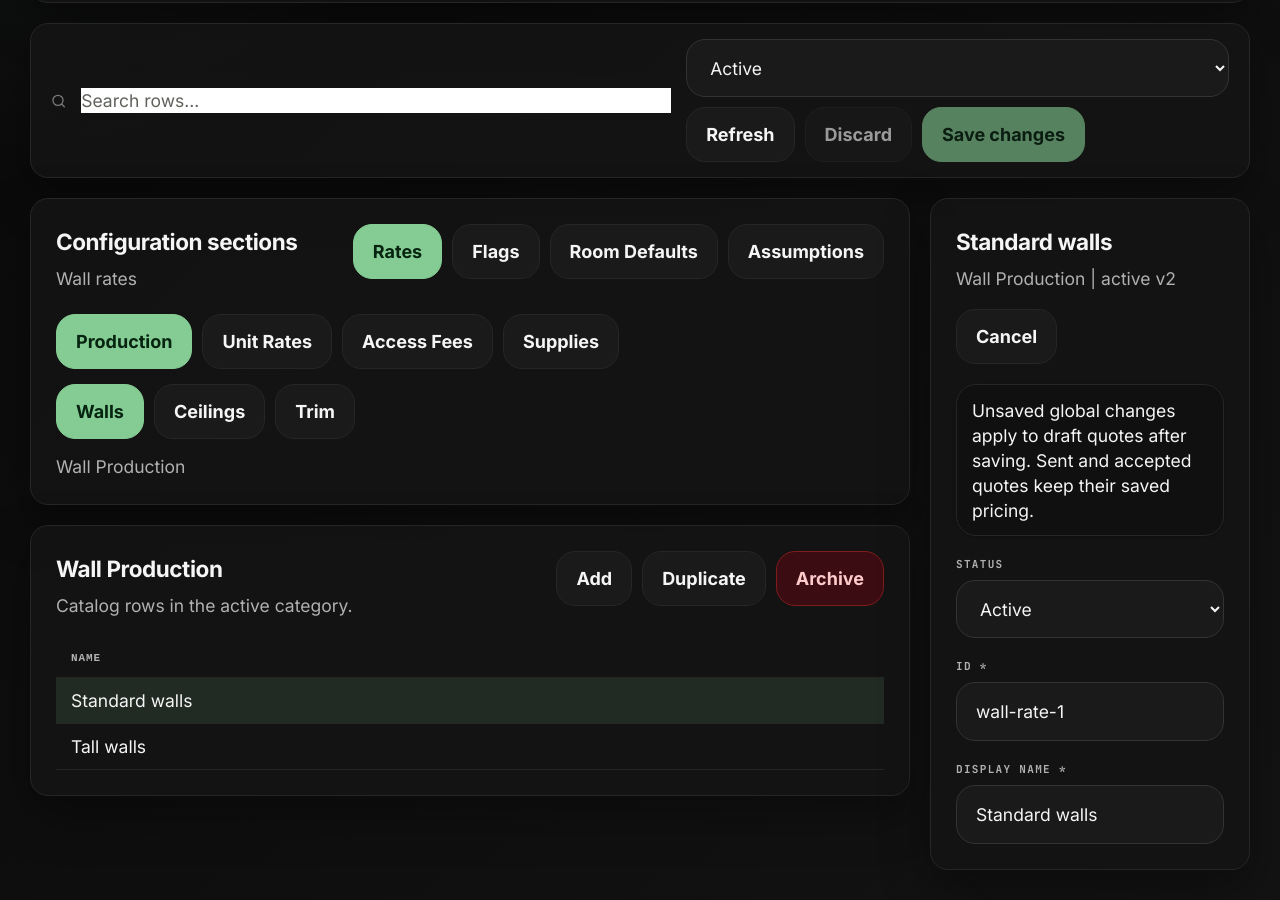
Test case: QuoteRatesPage › shows a discard modal before replacing a dirty draft
(page scrolled)
Expected: the text "Standard walls" is shown 2 times, [56,677,884,723]; [956,224,1112,259]
Replace the text in the field labelled "Display Name *" with "Edited walls". click: (1090, 814)
box: [956,785,1224,844]
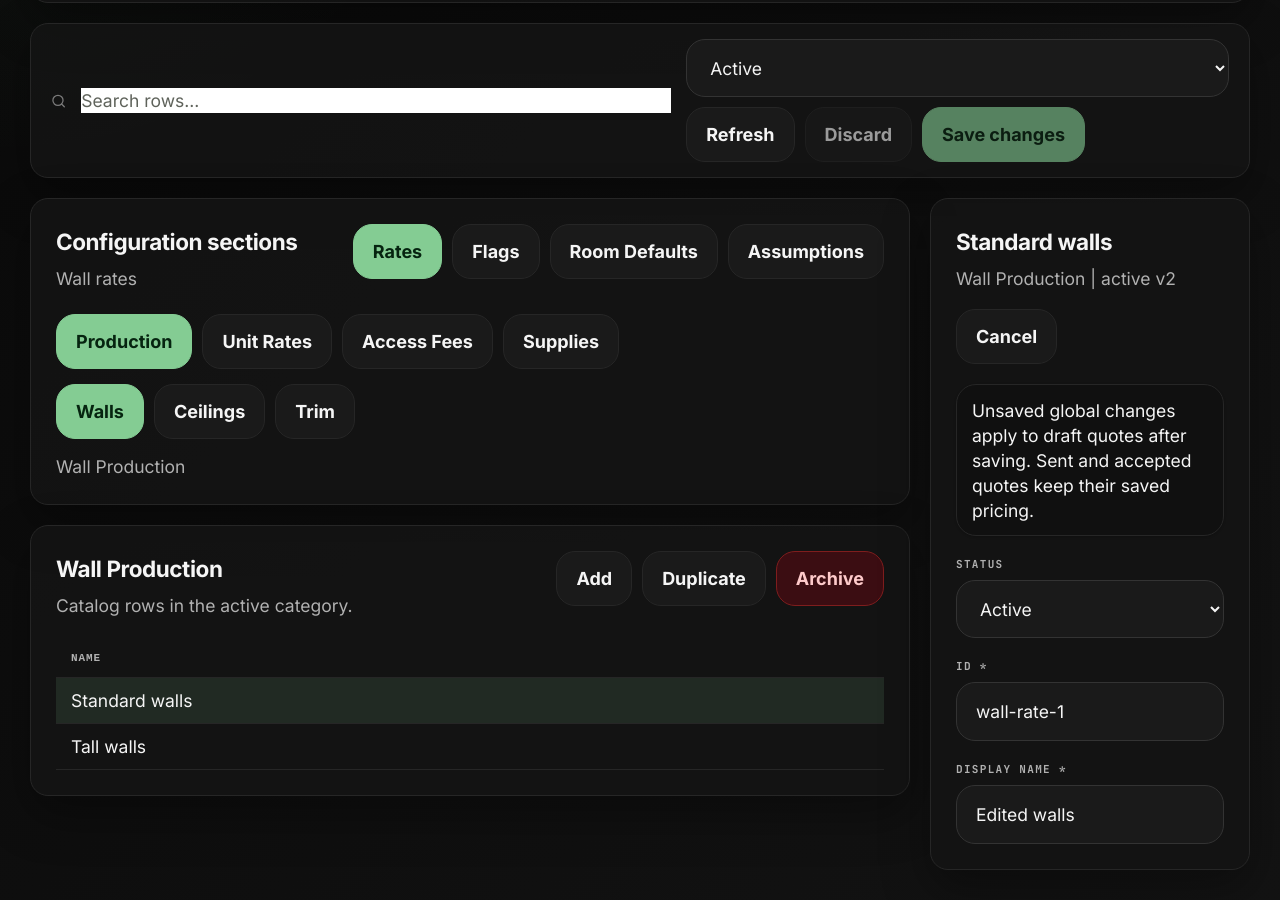
Click the row "Tall walls". click: click(470, 746)
box: [56,723,884,769]
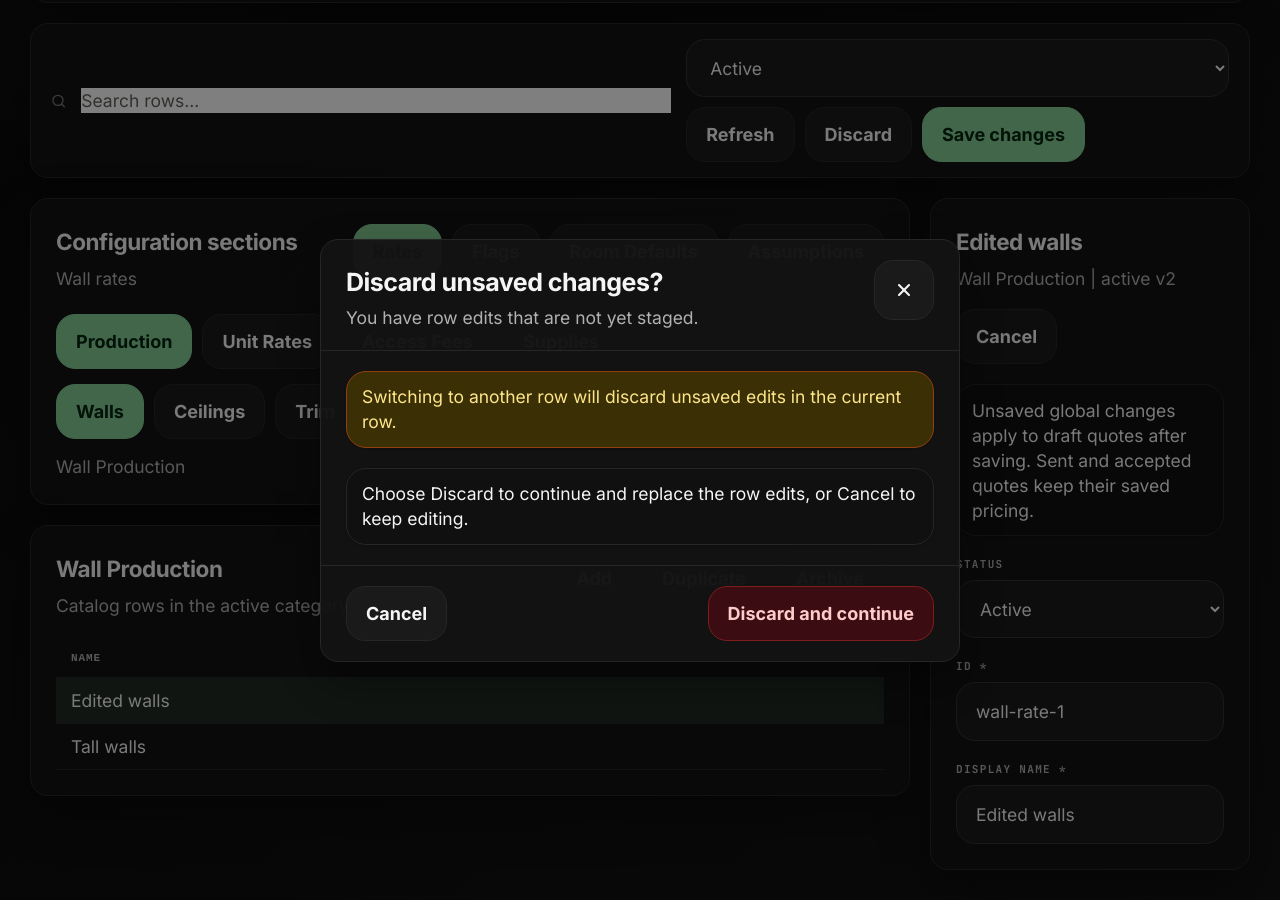
Expected: the heading "Discard unsaved changes?" is shown, [346,264,699,300]
Expected: the text "Switching to another row will discard unsaved edits in the current row." is shown, [362,384,918,434]
